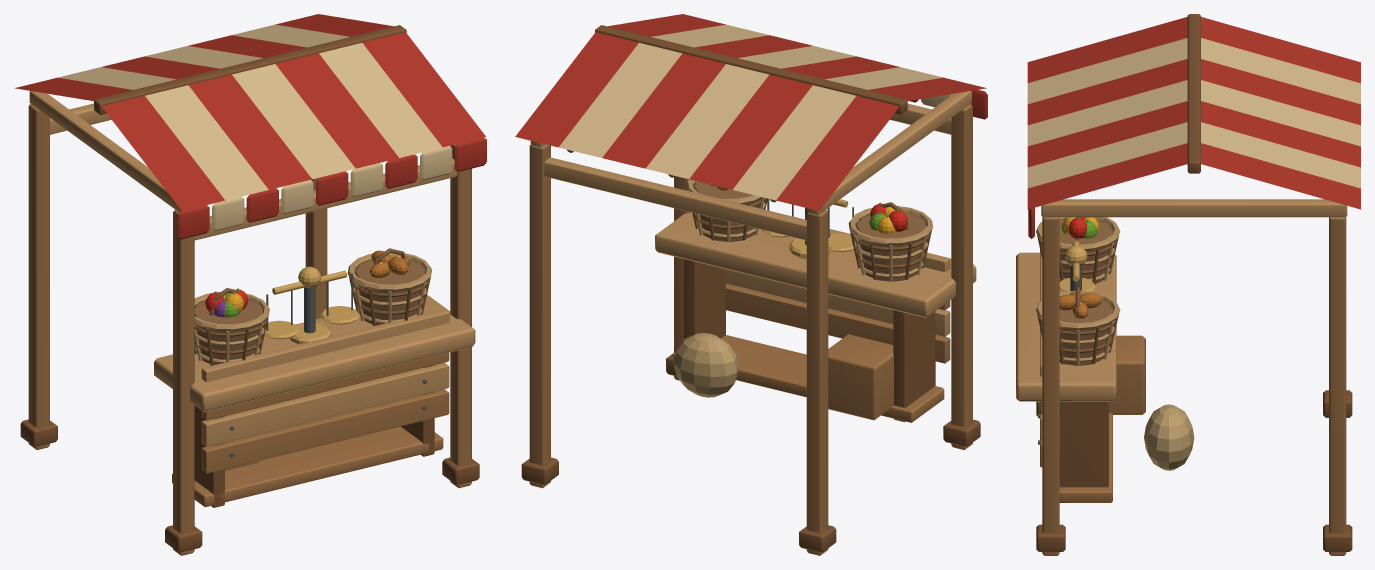
File: barraca_mercador.glb
The picture shows the model from 3 angles, left to right: view 1: azimuth 30°, elevation 25°; view 2: azimuth 150°, elevation 25°; view 3: azimuth 270°, elevation 25°; orthographic projection.
Visible parts, largest first — view 1: Balcão | tampo, Balcão | prateleira, Barraca | montante.001, Balcão | tábua frontal 0, Balcão | tábua frontal 1, Barraca | montante, Barraca | montante.002, Toldo | faixa 1, Toldo | faixa 3, Toldo | faixa 6, Toldo | faixa 0, Toldo | faixa 2 (+35 smaller); view 2: Balcão | tampo, Barraca | montante.001, Barraca | montante.003, Barraca | montante, Barraca | travessa lateral.001, Toldo | faixa 4.001, Toldo | faixa 6.001, Toldo | faixa 1.001, Toldo | faixa 2.001, Toldo | faixa 5.001, Toldo | faixa 0.001, Toldo | faixa 3.001 (+24 smaller); view 3: Balcão | tampo, Barraca | montante.002, Barraca | montante.003, Barraca | travessa de topo.001, Balcão | suporte.001, Toldo | faixa 1, Toldo | faixa 2, Toldo | faixa 5, Toldo | faixa 3, Toldo | faixa 4, Toldo | faixa 6, Toldo | faixa 0 (+17 smaller).
Part boxes in pixels (bbox=[...]): Balcão | tampo: bbox=[154, 294, 475, 412]; Balcão | prateleira: bbox=[172, 426, 443, 507]; Barraca | montante.001: bbox=[28, 104, 49, 449]; Balcão | tábua frontal 0: bbox=[201, 389, 449, 473]; Balcão | tábua frontal 1: bbox=[201, 362, 449, 446]; Barraca | montante: bbox=[173, 209, 194, 555]; Barraca | montante.002: bbox=[450, 144, 471, 488]; Toldo | faixa 1: bbox=[145, 85, 268, 200]; Toldo | faixa 3: bbox=[232, 64, 355, 179]; Toldo | faixa 6: bbox=[362, 32, 485, 147]; Toldo | faixa 0: bbox=[101, 96, 225, 210]; Toldo | faixa 2: bbox=[188, 74, 311, 189]; Balcão | tampo: bbox=[655, 212, 976, 317]; Barraca | montante.001: bbox=[806, 210, 828, 555]; Barraca | montante.003: bbox=[529, 144, 550, 488]; Barraca | montante: bbox=[951, 104, 972, 450]; Barraca | travessa lateral.001: bbox=[544, 157, 806, 240]; Toldo | faixa 4.001: bbox=[602, 53, 725, 168]; Toldo | faixa 6.001: bbox=[515, 32, 638, 147]; Toldo | faixa 1.001: bbox=[732, 85, 855, 200]; Toldo | faixa 2.001: bbox=[689, 74, 812, 189]; Toldo | faixa 5.001: bbox=[558, 42, 682, 157]; Toldo | faixa 0.001: bbox=[776, 96, 899, 210]; Toldo | faixa 3.001: bbox=[646, 64, 769, 179]; Balcão | tampo: bbox=[1016, 252, 1116, 401]; Barraca | montante.002: bbox=[1042, 217, 1059, 555]; Barraca | montante.003: bbox=[1329, 217, 1346, 555]; Barraca | travessa de topo.001: bbox=[1041, 199, 1347, 217]; Balcão | suporte.001: bbox=[1059, 401, 1108, 487]; Toldo | faixa 1: bbox=[1027, 38, 1187, 103]; Toldo | faixa 2: bbox=[1027, 59, 1187, 125]; Toldo | faixa 5: bbox=[1027, 122, 1187, 188]; Toldo | faixa 3: bbox=[1027, 80, 1187, 146]; Toldo | faixa 4: bbox=[1027, 101, 1187, 167]; Toldo | faixa 6: bbox=[1027, 143, 1187, 209]; Toldo | faixa 0: bbox=[1027, 17, 1187, 82].
Size of the model in its own units: 1.83 by 2.27 by 1.78.
